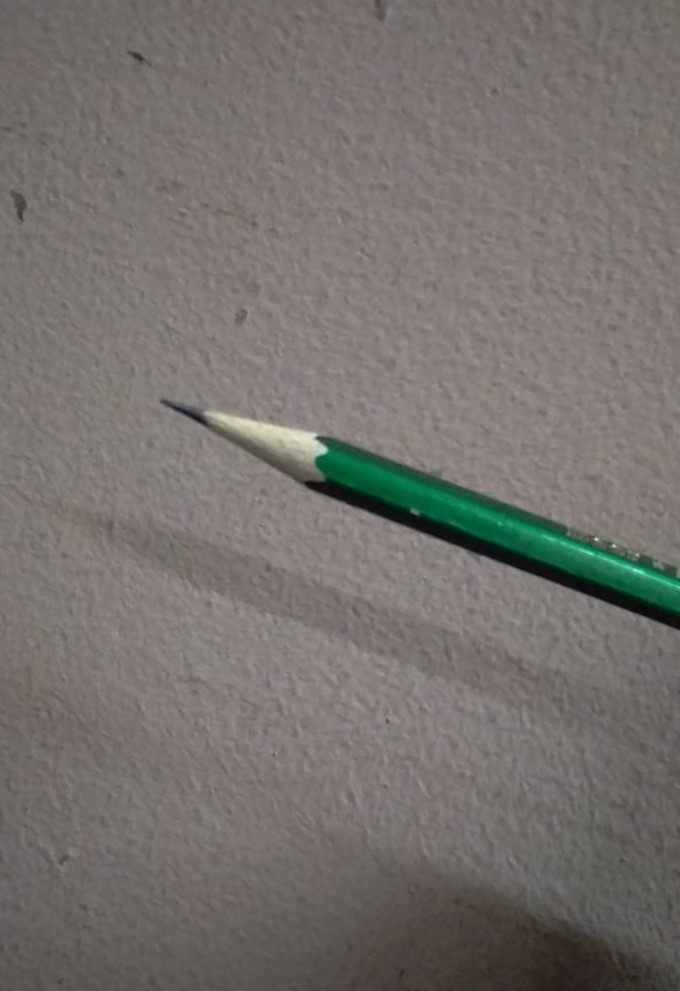pen_tip: (125, 344, 349, 519)
